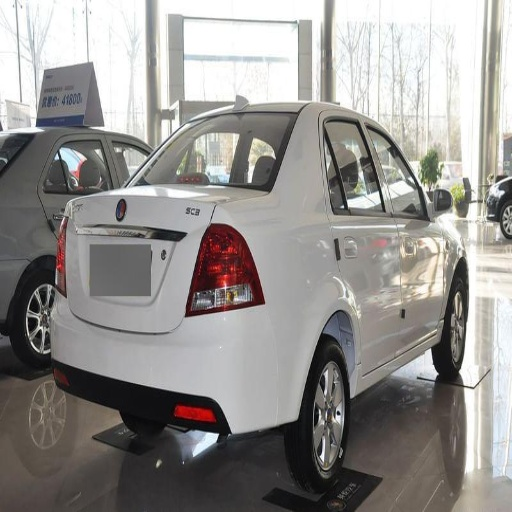back_bumper: (54, 297, 315, 445)
back_right_door: (319, 111, 402, 374)
